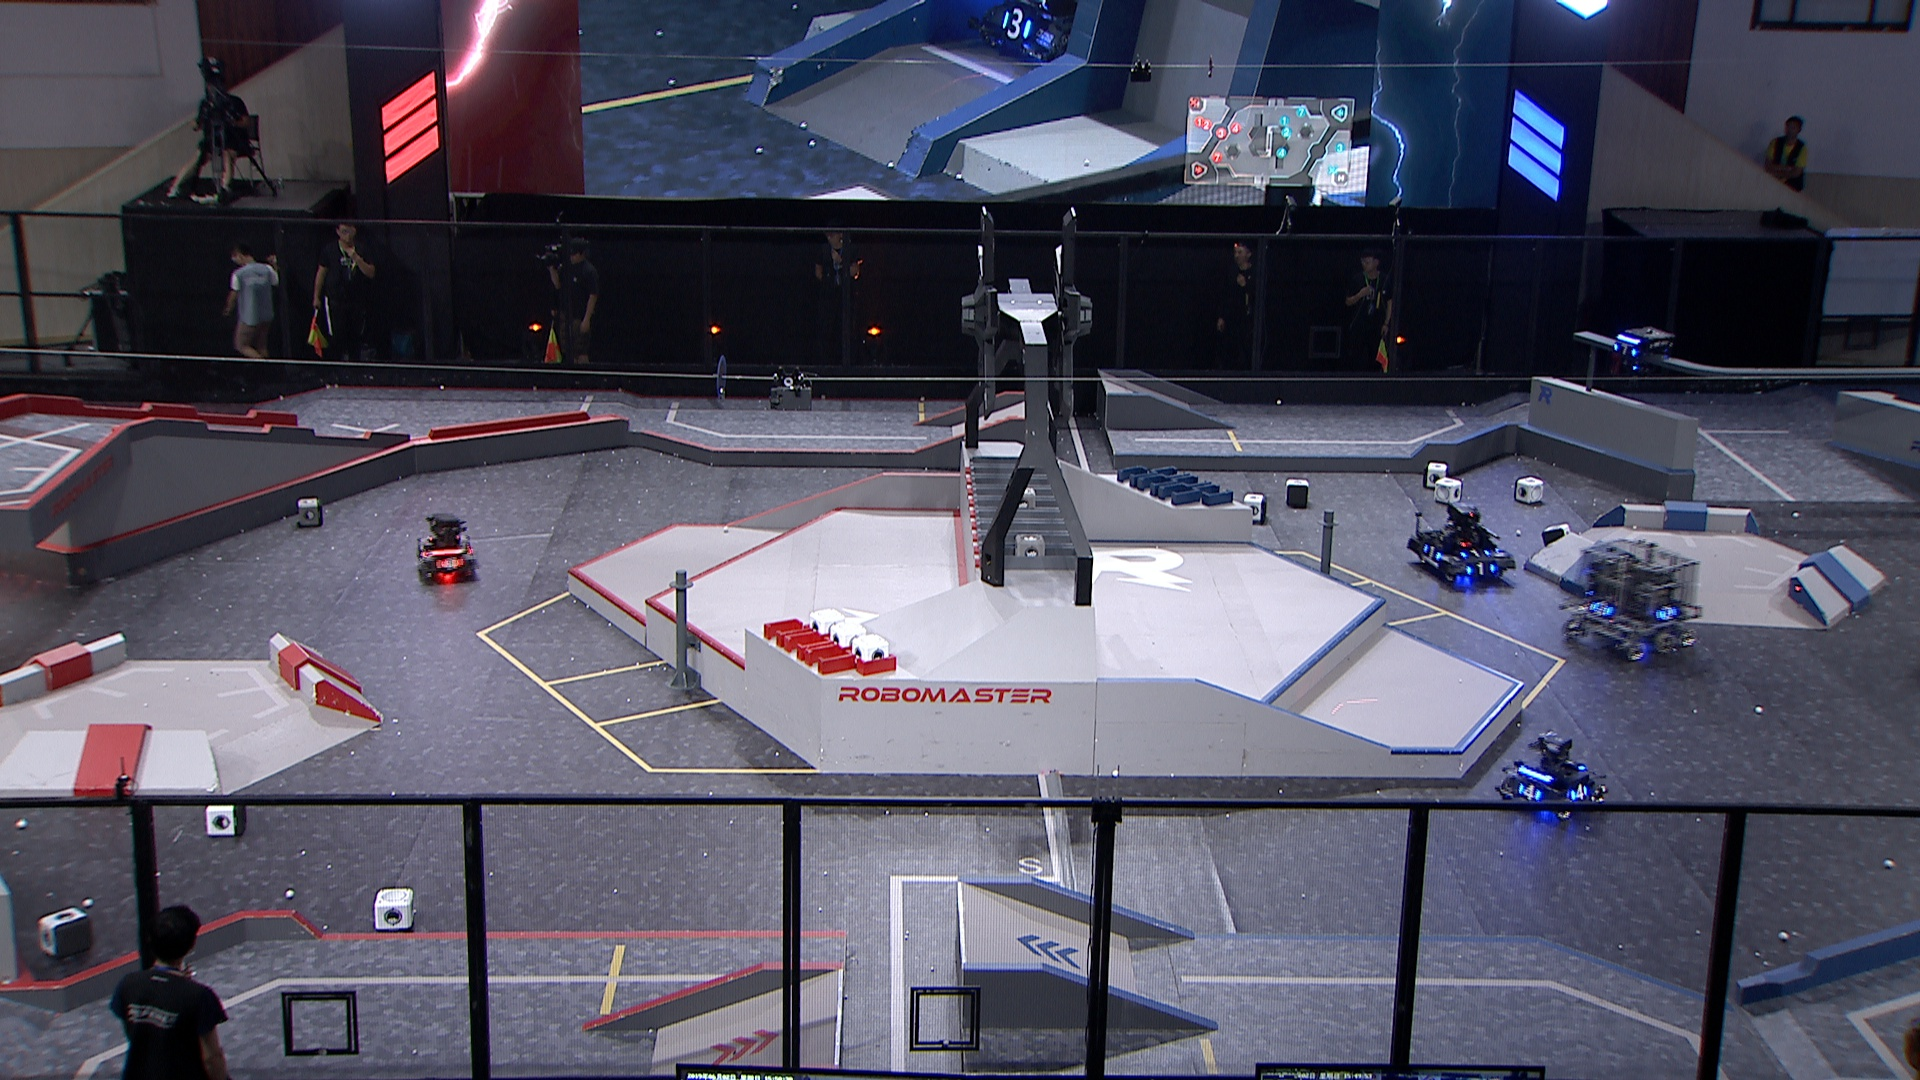armor: (1613, 339, 1636, 361), (1466, 560, 1494, 576), (1518, 782, 1539, 802), (1567, 783, 1589, 802), (438, 556, 462, 572), (1655, 603, 1677, 618), (1462, 547, 1491, 559), (1423, 543, 1443, 560), (1564, 756, 1585, 771), (1586, 603, 1610, 616)
car: (1557, 535, 1705, 659), (1408, 496, 1515, 588), (1494, 731, 1604, 820), (411, 512, 480, 588)
watcher: (1605, 322, 1676, 389)
